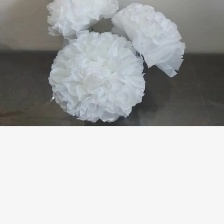tissue: (42, 27, 151, 126), (106, 0, 191, 81), (42, 0, 125, 42)
